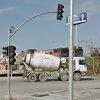traffic lights: (8, 44, 17, 66), (56, 3, 64, 21)
